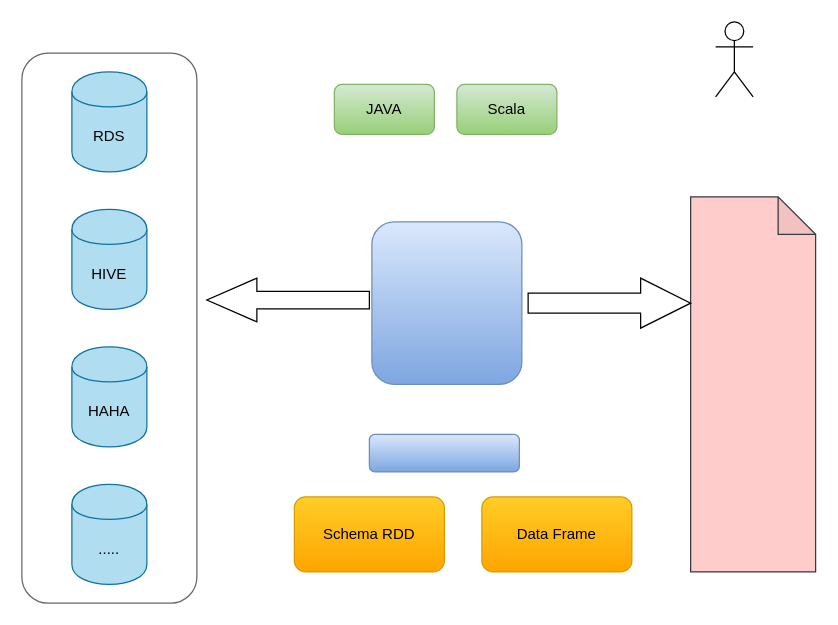
Image size: 838x625. Some labels were removed from this diagram. The shapes that lost their labels are listed below. From the top down, each one's centre as x and y in pixels, then its label:
point (733, 59): 结果查询
point (446, 302): Spark cluster
point (752, 384): Mongodb
point (443, 452): SparkSQL
